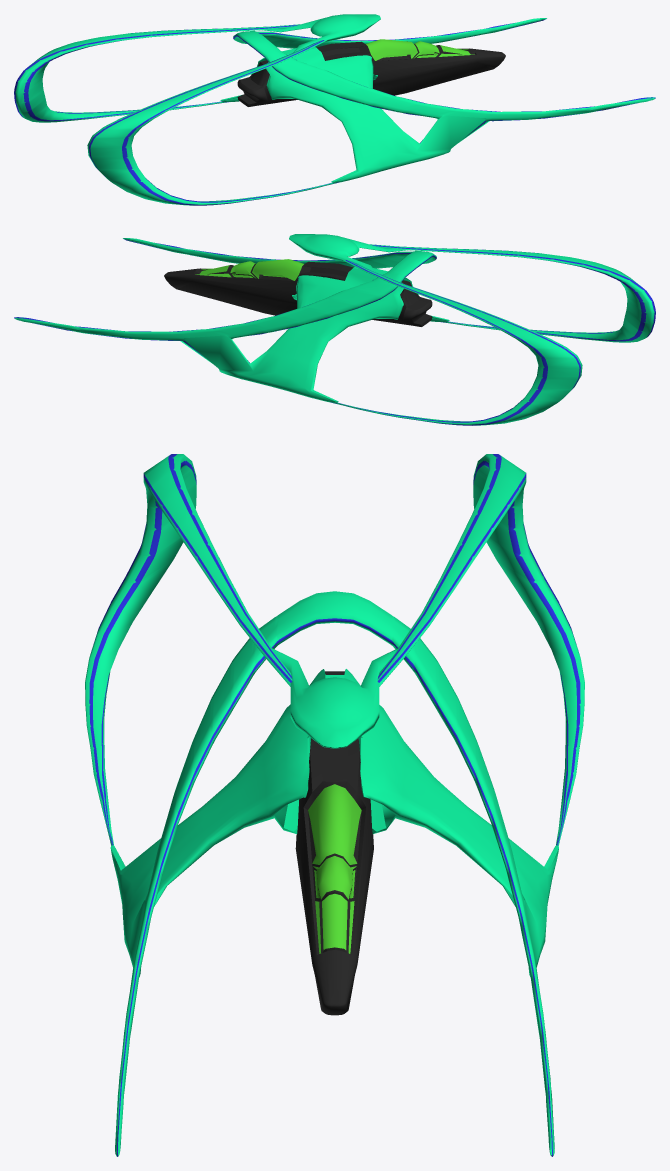
Rendered from Sol Ship.FBX.
The picture shows the model from 3 angles, top to bottom: view 1: azimuth 30°, elevation 25°; view 2: azimuth 150°, elevation 25°; view 3: azimuth 270°, elevation 25°; orthographic projection. The views are drawn at different scales.
Parts seen in each view (by area): view 1: Object010, Object002, Object001; view 2: Object010, Object002, Object001; view 3: Object010, Object002, Object001.
Part boxes in pixels (x1,y1,x2,y2): Object010: (14, 14, 655, 205); Object002: (237, 41, 505, 106); Object001: (366, 39, 475, 60); Object010: (14, 234, 655, 425); Object002: (164, 261, 432, 326); Object001: (194, 259, 303, 280); Object010: (85, 454, 584, 1156); Object002: (295, 671, 373, 1015); Object001: (308, 784, 361, 953).
Bounding box in the file's own units: 186 × 38.3 × 73.42.
